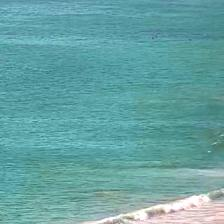surfer: (151, 36, 155, 40), (188, 39, 192, 42)
